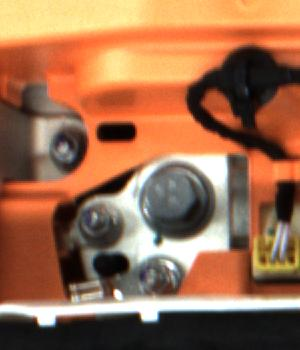nut_b: (139, 163, 214, 233)
screw_s: (134, 254, 175, 293), (76, 203, 115, 238), (47, 128, 77, 163)
